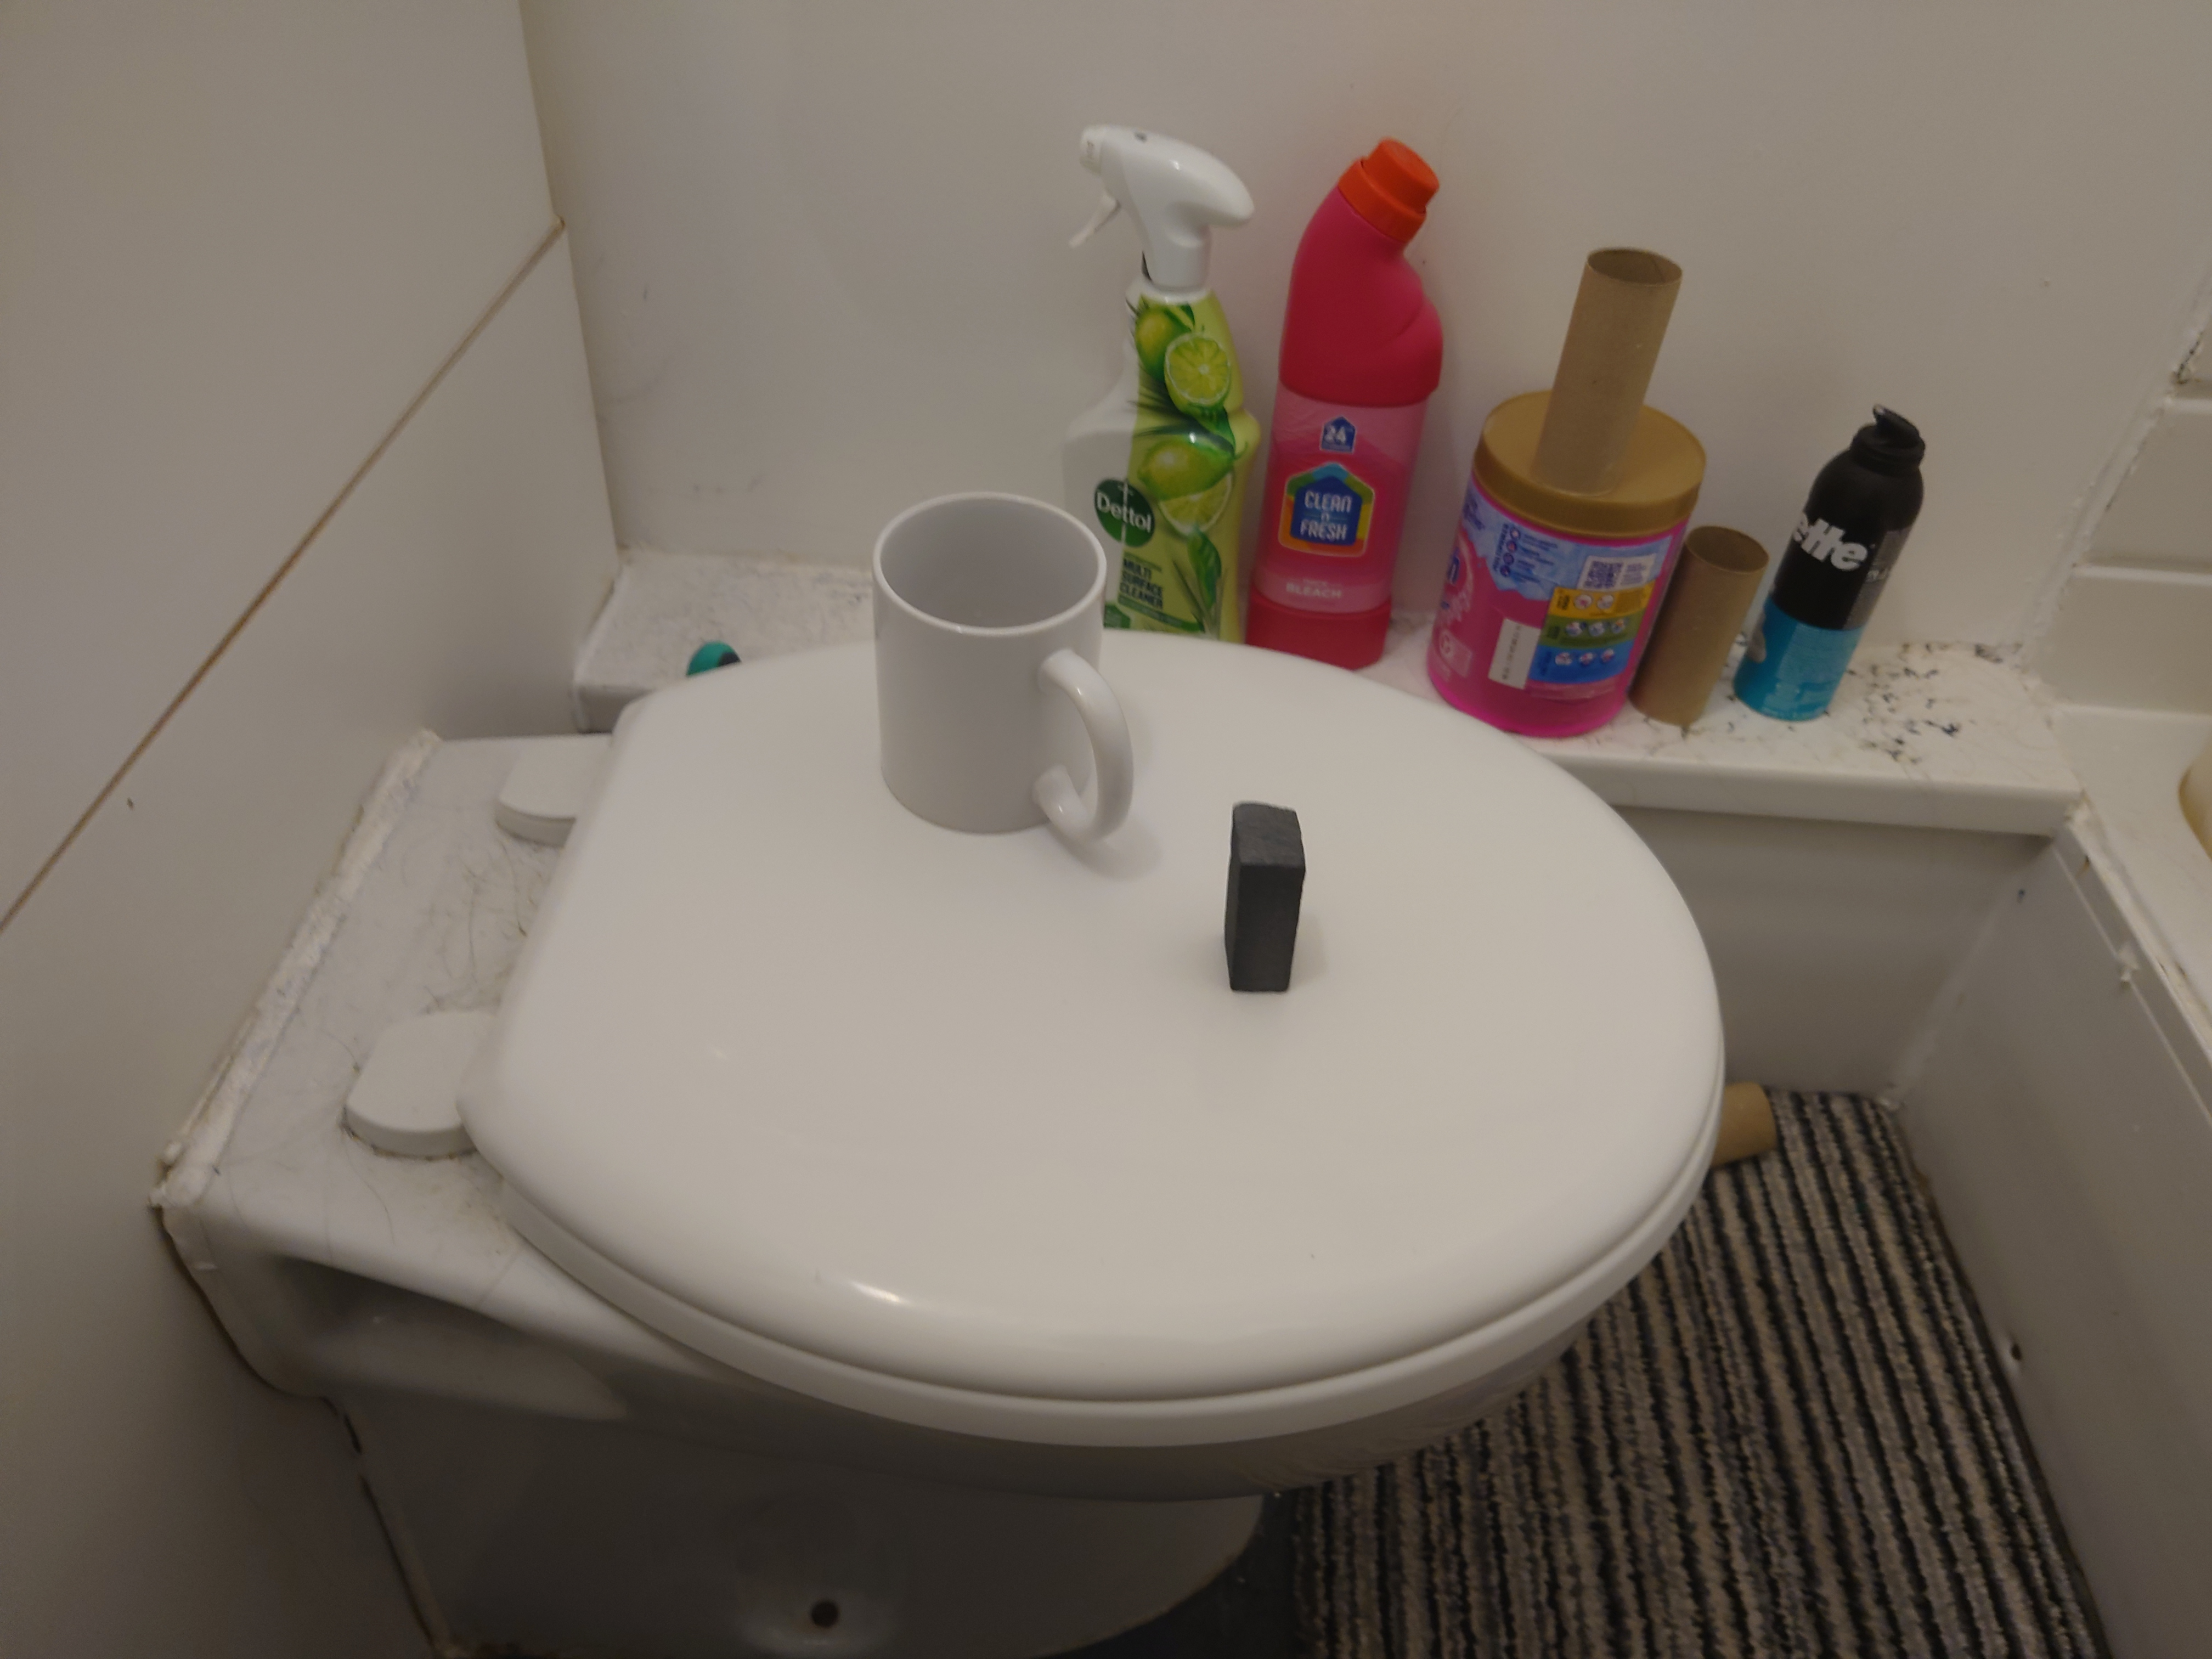cup: (867, 486, 1137, 852)
target: (1221, 798, 1306, 993)
